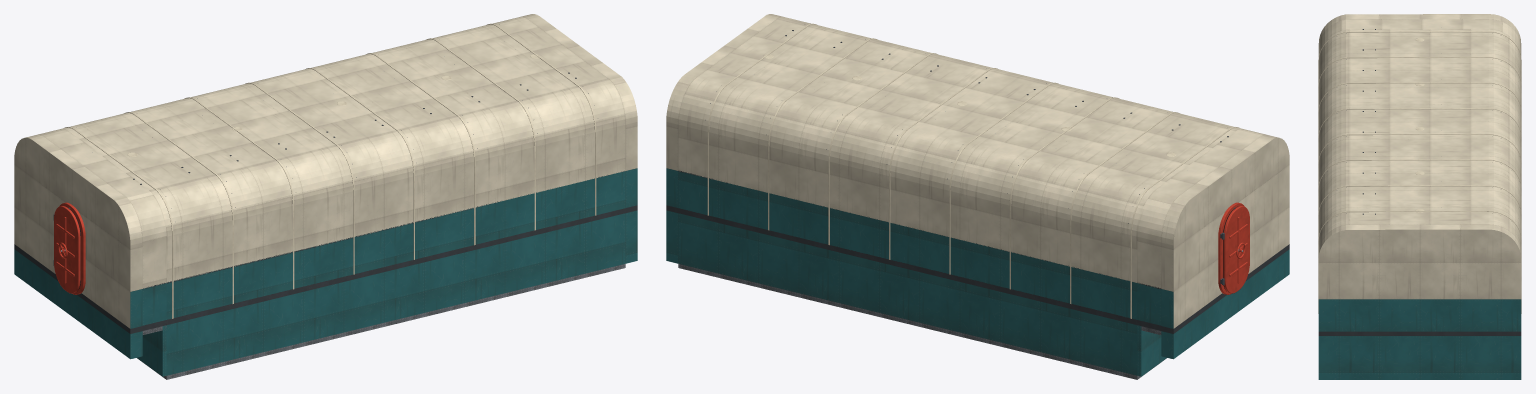
Rendered from EngineRoom.glb.
3 renders of one model, left to right at view 1: azimuth 30°, elevation 25°; view 2: azimuth 150°, elevation 25°; view 3: azimuth 270°, elevation 25°, orthographic. The views are drawn at different scales.
Visible parts, largest first — view 1: EngineRoom_Shell_Body, Bulkhead_5_Body, EngineRoom_Shell_Structure, Bulkhead_Stern_Body, EngineRoom_Shell_Floor, EngineRoomDoor_Leaf.001, EngineRoomDoor_Body.001; view 2: EngineRoom_Shell_Body, Bulkhead_5_Body, EngineRoom_Shell_Structure, Bulkhead_Stern_Body, EngineRoom_Shell_Floor, EngineRoomDoor_Leaf.001, EngineRoomDoor_Body.001; view 3: EngineRoom_Shell_Body, Bulkhead_Stern_Body, EngineRoom_Shell_Structure, Bulkhead_5_Body.
Part boxes in pixels (x1,y1,x2,y2): EngineRoom_Shell_Body: (37, 17, 625, 376); Bulkhead_5_Body: (14, 135, 142, 359); EngineRoom_Shell_Structure: (64, 23, 596, 318); Bulkhead_Stern_Body: (520, 14, 637, 263); EngineRoom_Shell_Floor: (137, 264, 625, 379); EngineRoomDoor_Leaf.001: (54, 206, 80, 293); EngineRoomDoor_Body.001: (53, 202, 85, 294); EngineRoom_Shell_Body: (678, 17, 1266, 376); Bulkhead_5_Body: (1161, 135, 1289, 359); EngineRoom_Shell_Structure: (705, 23, 1239, 318); Bulkhead_Stern_Body: (666, 14, 783, 263); EngineRoom_Shell_Floor: (678, 264, 1166, 379); EngineRoomDoor_Leaf.001: (1223, 206, 1249, 293); EngineRoomDoor_Body.001: (1218, 202, 1244, 294); EngineRoom_Shell_Body: (1318, 19, 1521, 252); Bulkhead_Stern_Body: (1318, 224, 1521, 379); EngineRoom_Shell_Structure: (1318, 29, 1521, 313); Bulkhead_5_Body: (1318, 14, 1521, 47).
Bounding box in the file's own units: 12.88 × 4.21 × 5.02.
Materials: 54 (37 with a texture image).
